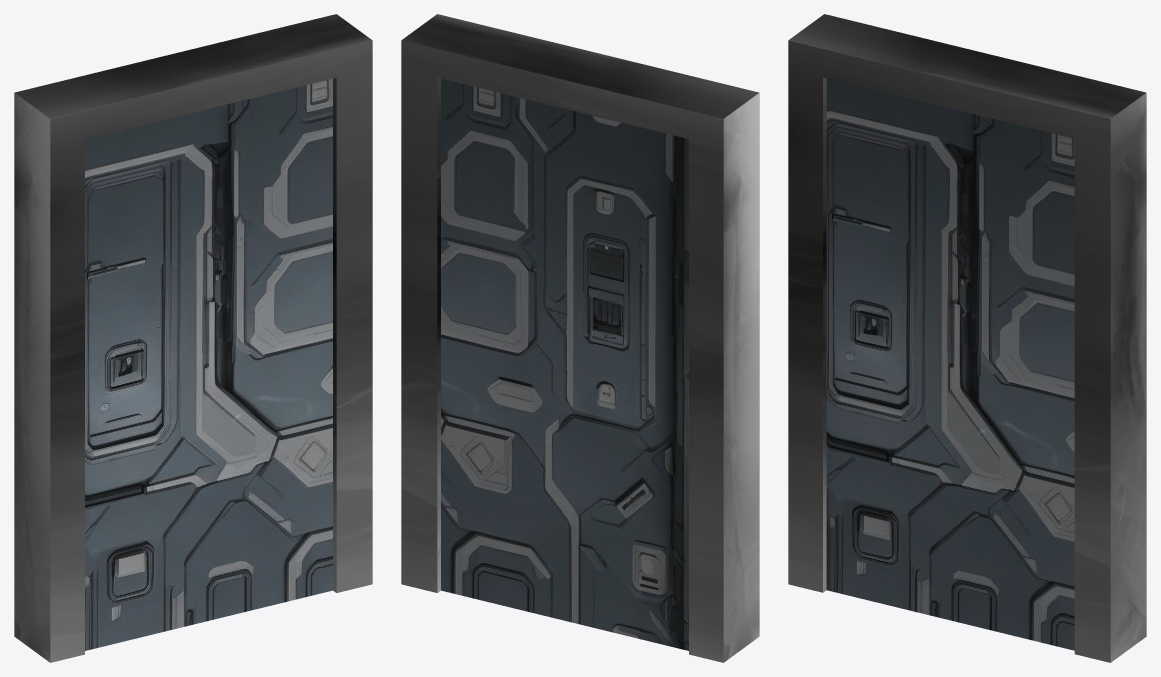
The model's file is door.gltf.
3 views of the same model, side by side, from view 1: azimuth 30°, elevation 25°; view 2: azimuth 150°, elevation 25°; view 3: azimuth 330°, elevation 25° (orthographic).
Parts seen in each view (by area): view 1: door, frame; view 2: door, frame; view 3: door, frame.
Boxes of the visible parts, <box> form: door: <box>85,78,332,650</box>; frame: <box>14,14,372,662</box>; door: <box>441,78,688,650</box>; frame: <box>401,14,759,662</box>; door: <box>826,78,1074,650</box>; frame: <box>788,14,1146,662</box>.
Size of the model in its own units: 0.1295 by 0.209 by 0.025.
2 materials, 2 textured.
